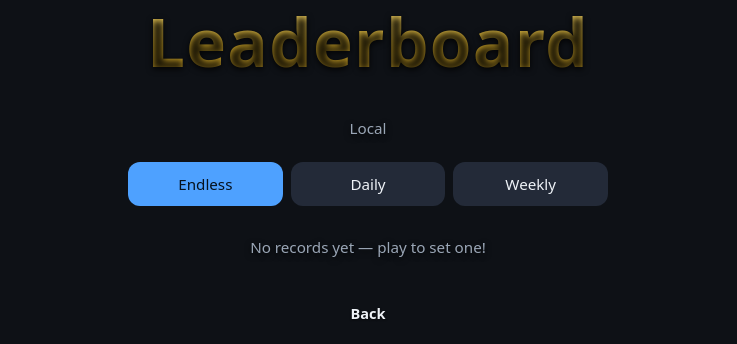
Test case: LeaderboardScreen › switches tabs to show daily entries
This screenshot has width=737, height=344.
Click the tab with test id "leaderboard-tab-daily" at x=368, y=184, box [291, 162, 445, 206]
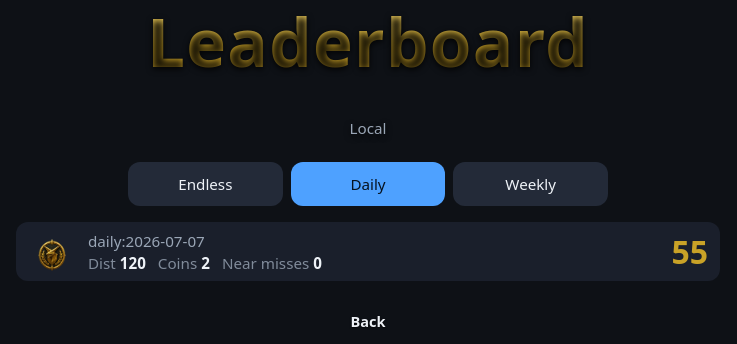
Check: the text "55" is shown, box [671, 230, 708, 273]
